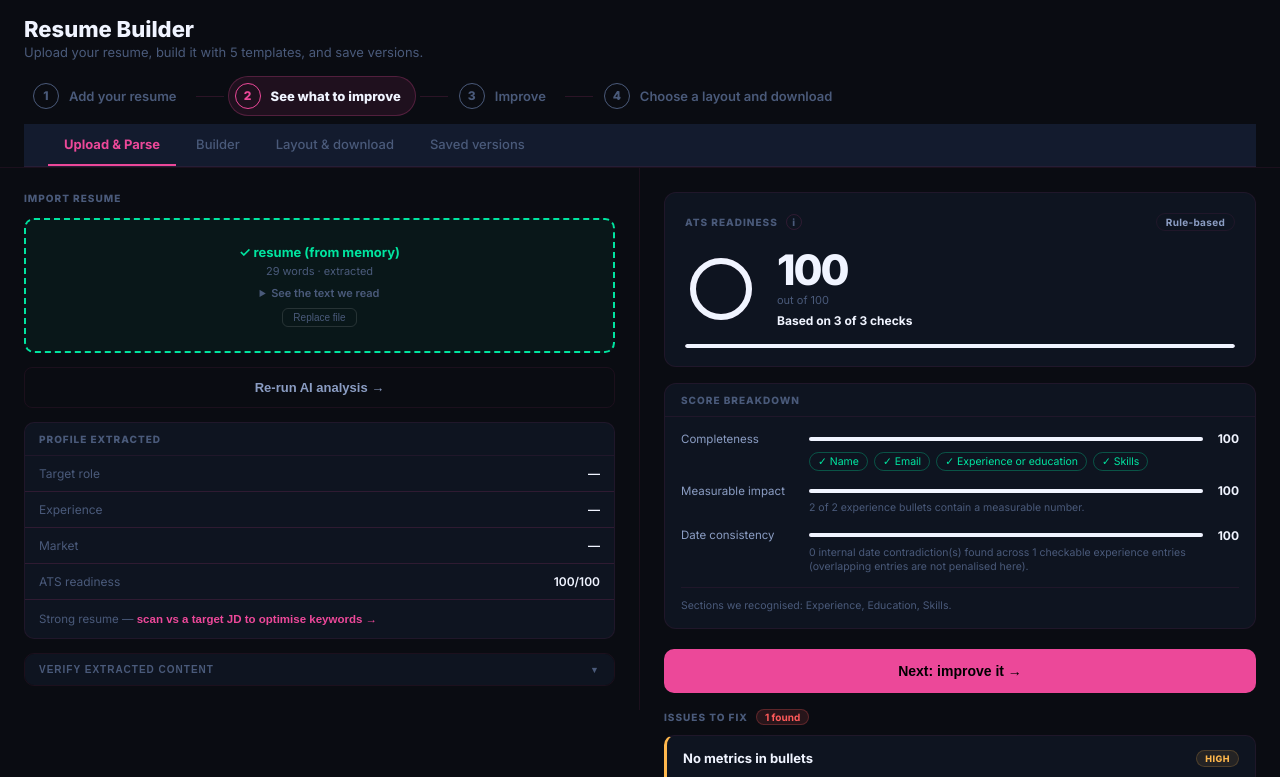
Test: ATS Builder shows the computed score › shows the score computed from the resume text and ignores the model's number
Expected: the text "ATS Readiness" is shown, [685, 216, 778, 228]
Click the button named "How is this score calculated?". click: point(794, 222)
box: [786, 214, 802, 230]
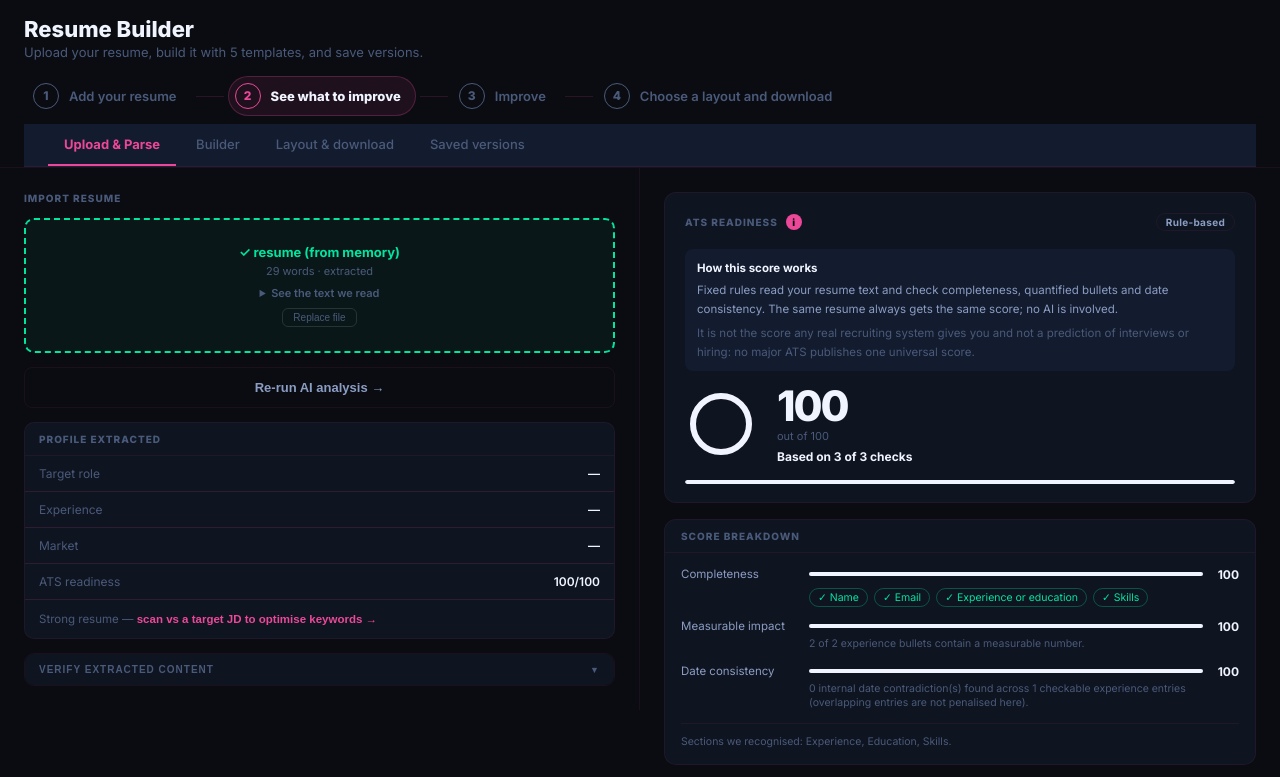
Expected: the text "Completeness" is shown, [681, 568, 759, 582]
Expected: the text "not a prediction of interviews or hiring" is shown, [697, 326, 1189, 359]
